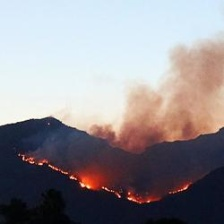fire: (16, 150, 196, 214)
smoke: (113, 52, 224, 131)
